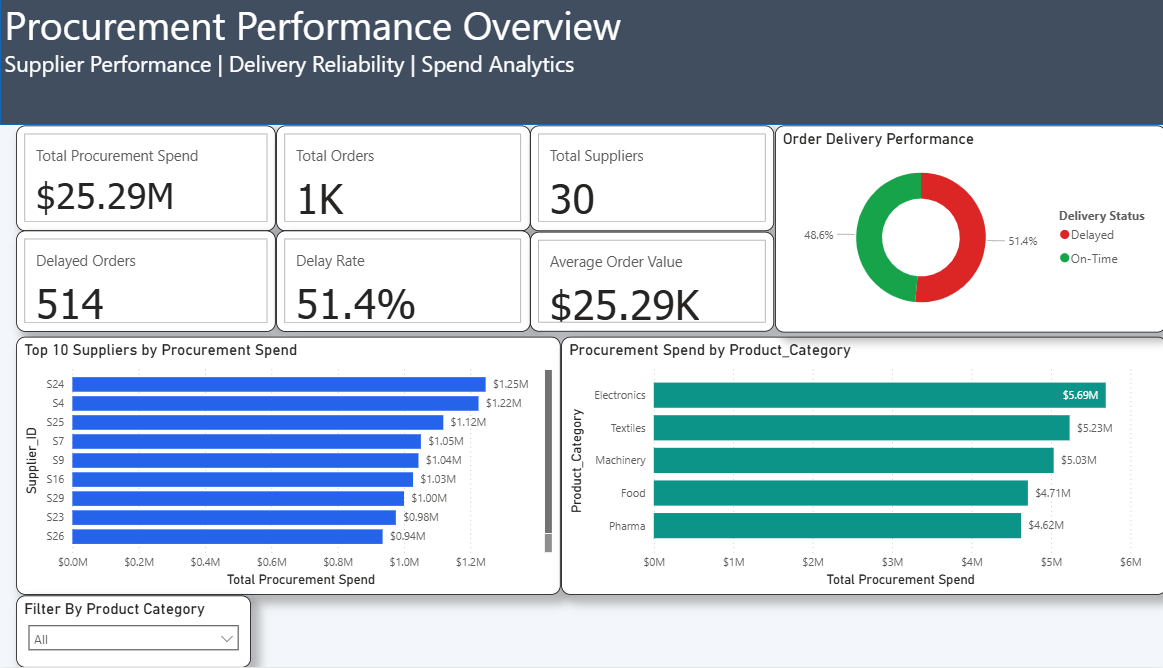

Layout of this report page (visuals, bound fields, positions):
{"tool":"powerbi","page":{"name":"Procurement Overview","canvas":[1280,720],"ordinal":0},"visuals":[{"type":"cardVisual","fields":{"Data":["procurement_orders.Total Procurement Spend"]},"box":[17.8,17.8,285.4,116.6],"z":0},{"type":"cardVisual","fields":{"Data":["procurement_orders.Total Orders"]},"box":[303.3,17.8,278.6,116.6],"z":1000},{"type":"cardVisual","fields":{"Data":["procurement_orders.Total Suppliers"]},"box":[581.8,17.8,269,116.6],"z":2000},{"type":"cardVisual","fields":{"Data":["procurement_orders.Delayed Orders"]},"box":[17.8,150.9,285.4,111.1],"z":3000},{"type":"cardVisual","fields":{"Data":["procurement_orders.Delay Rate"]},"box":[303.3,150.9,278.6,111.1],"z":4000},{"type":"cardVisual","fields":{"Data":["procurement_orders.Average Order Value"]},"box":[581.8,150.9,269,109.8],"z":5000},{"type":"clusteredBarChart","title":"Top 10 Suppliers by Procurement Spend","fields":{"Category":["supplier_scorecard.Supplier_ID"],"Y":["procurement_orders.Total Procurement Spend"]},"box":[17.8,260.7,621.6,282.7],"z":6000},{"type":"clusteredBarChart","title":"Procurement Spend by Product_Category","fields":{"Category":["procurement_orders.Product_Category"],"Y":["procurement_orders.Total Procurement Spend"]},"box":[639.5,262.1,640.8,271.7],"z":7000},{"type":"donutChart","title":"Order Delivery Performance","fields":{"Category":["procurement_orders.Delivery Status"],"Y":["procurement_orders.Total Orders"]},"box":[850.8,17.8,429.5,242.9],"z":8000},{"type":"slicer","title":"Filter By Product Category","fields":{"Values":["procurement_orders.Product_Category"]},"box":[18.3,542.6,413.1,178.3],"z":9000}]}

Visuals, with their boxes in screenshot pixels (x1, y1, x2, y2), scaled from the page's 1280x720 canvas onto the 1163x668 screenshot:
cardVisual - procurement_orders.Total Procurement Spend: x1=16, y1=17, x2=275, y2=125
cardVisual - procurement_orders.Total Orders: x1=276, y1=17, x2=529, y2=125
cardVisual - procurement_orders.Total Suppliers: x1=529, y1=17, x2=773, y2=125
cardVisual - procurement_orders.Delayed Orders: x1=16, y1=140, x2=275, y2=243
cardVisual - procurement_orders.Delay Rate: x1=276, y1=140, x2=529, y2=243
cardVisual - procurement_orders.Average Order Value: x1=529, y1=140, x2=773, y2=242
"Top 10 Suppliers by Procurement Spend" clusteredBarChart: x1=16, y1=242, x2=581, y2=504
"Procurement Spend by Product_Category" clusteredBarChart: x1=581, y1=243, x2=1162, y2=495
"Order Delivery Performance" donutChart: x1=773, y1=17, x2=1162, y2=242
"Filter By Product Category" slicer: x1=17, y1=503, x2=392, y2=667
